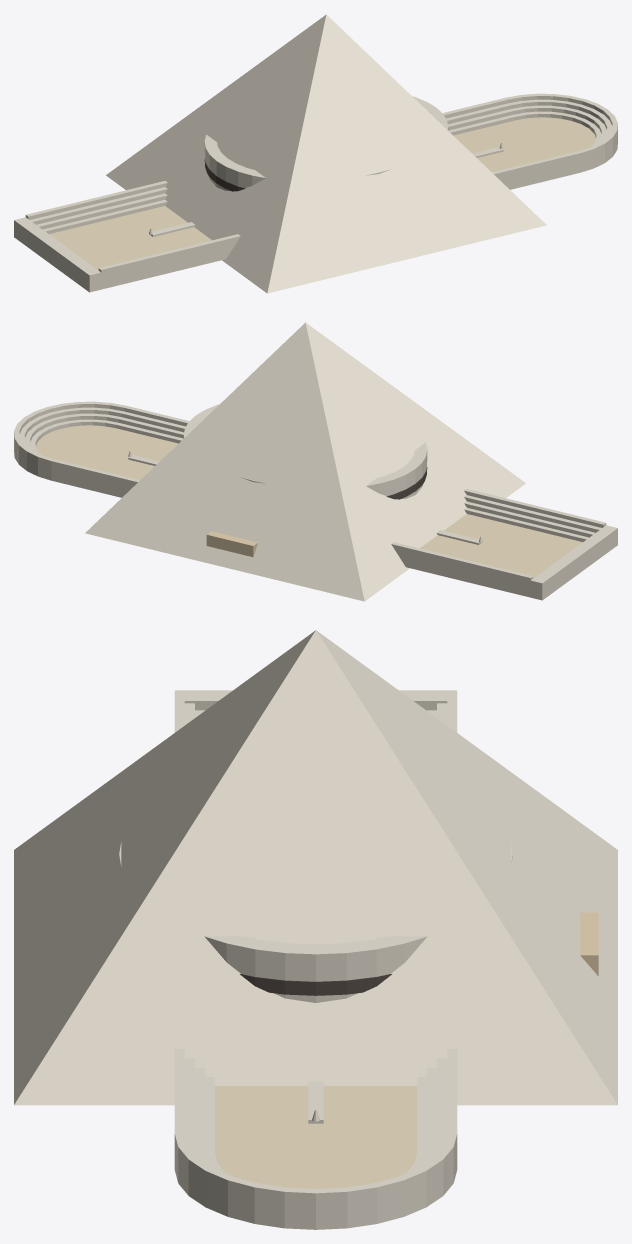
Rendered from city.glb.
3 views of the same model, one above another, from view 1: azimuth 30°, elevation 25°; view 2: azimuth 150°, elevation 25°; view 3: azimuth 270°, elevation 25° (orthographic). The views are drawn at different scales.
Parts seen in each view (by area): view 1: pyramid, hippodrome, amphitheatre; view 2: pyramid, hippodrome, amphitheatre, egypt_temple; view 3: pyramid, hippodrome, amphitheatre, egypt_temple.
Part boxes in pixels (x1,y1,x2,y2): pyramid: [106, 14, 546, 293]; hippodrome: [14, 93, 617, 292]; amphitheatre: [204, 96, 448, 191]; pyramid: [85, 322, 525, 601]; hippodrome: [14, 401, 617, 600]; amphitheatre: [183, 404, 427, 499]; egypt_temple: [206, 531, 257, 556]; pyramid: [14, 630, 617, 1105]; hippodrome: [174, 690, 457, 1229]; amphitheatre: [119, 842, 512, 1002]; egypt_temple: [580, 912, 598, 975].
Bounding box in the file's own units: 476 × 158 × 239.
